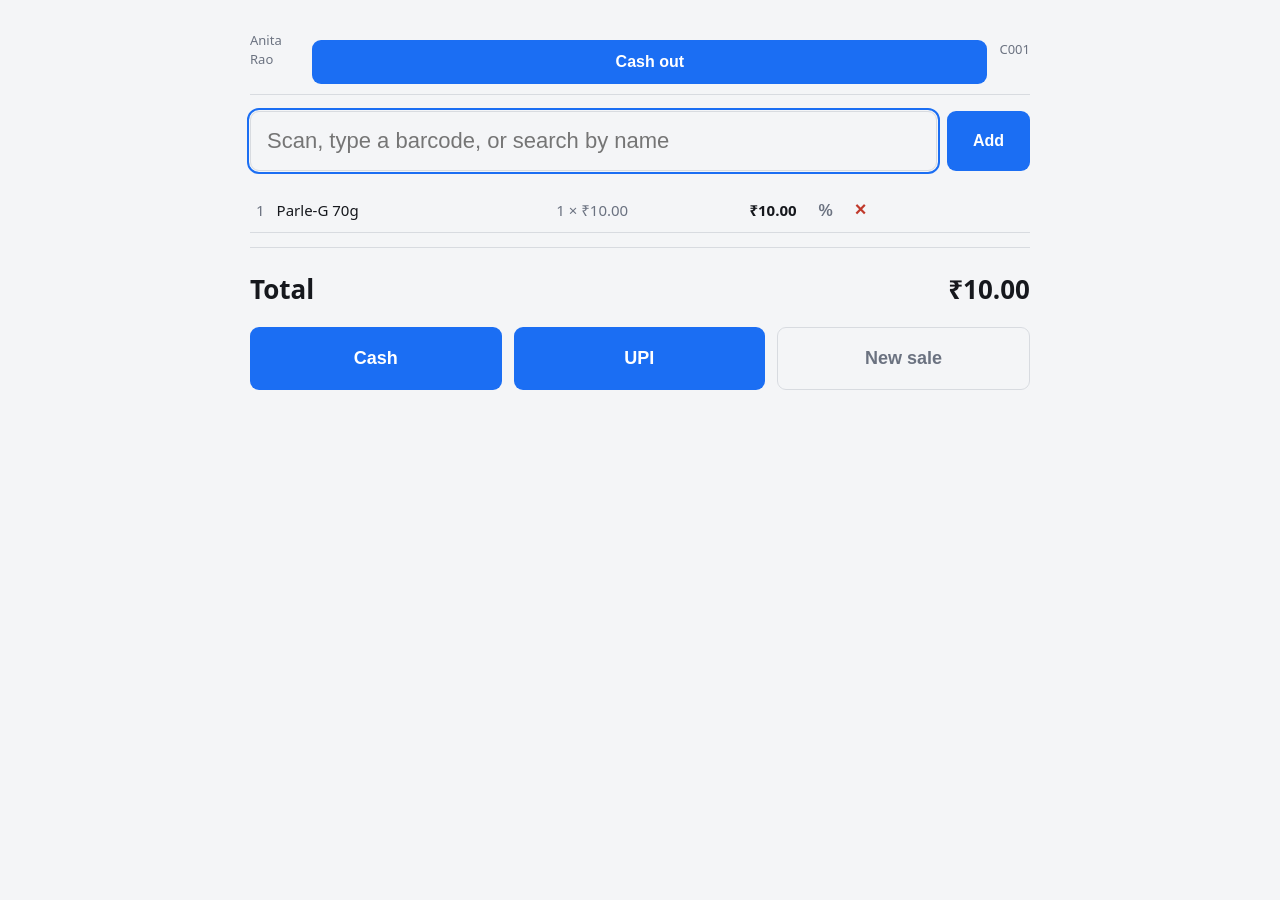
Test: asking for an override › opens the supervisor dialog when the act is refused
Expected: the field with placeholder "Scan, type a barcode, or search by name" is shown, x1=250 y1=111 x2=937 y2=171
Click the button named "discount line 1" at (826,211), box x1=809 y1=201 x2=843 y2=221
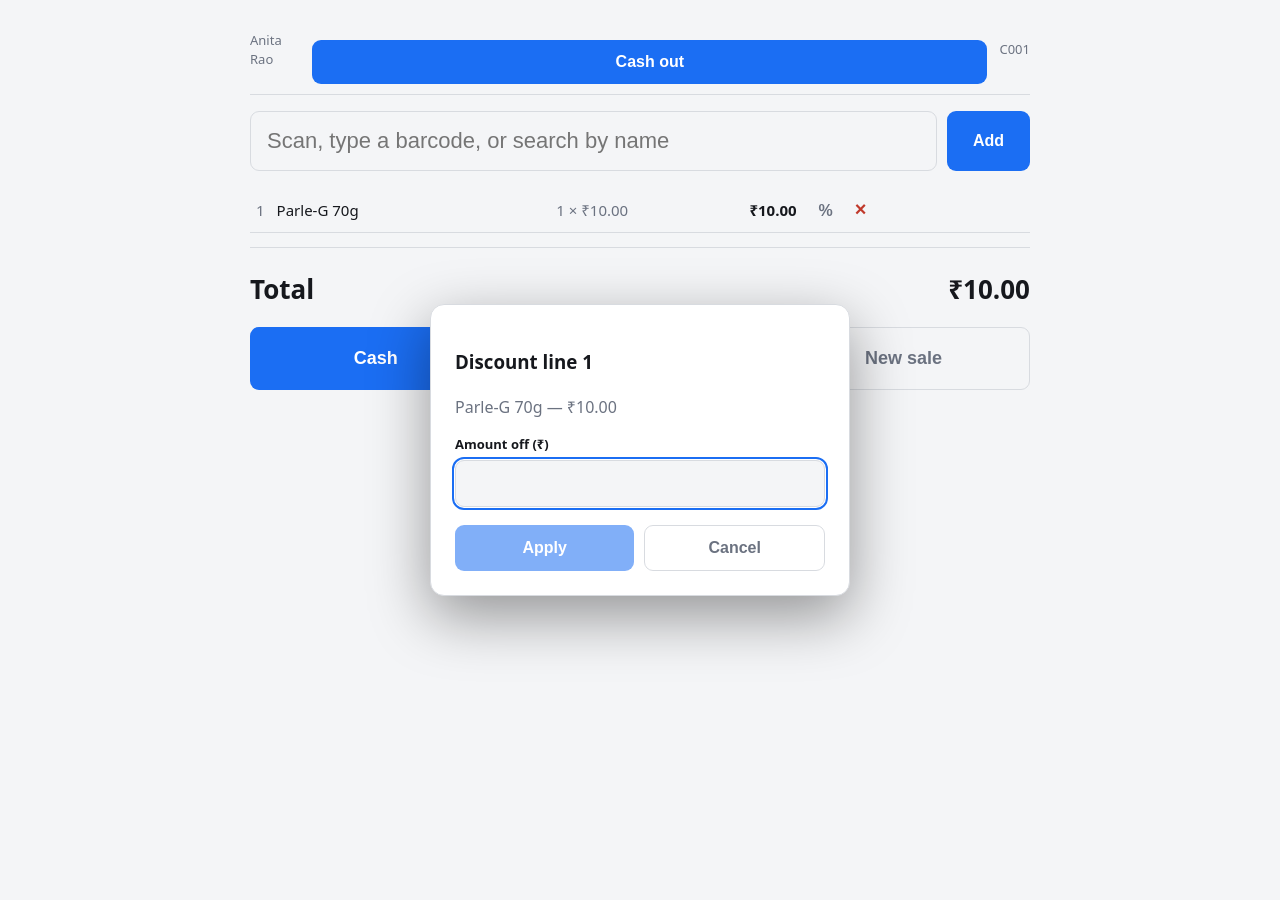
Type "2" into the field labelled "Amount off (₹)" at (640,484), box x1=455 y1=460 x2=825 y2=507
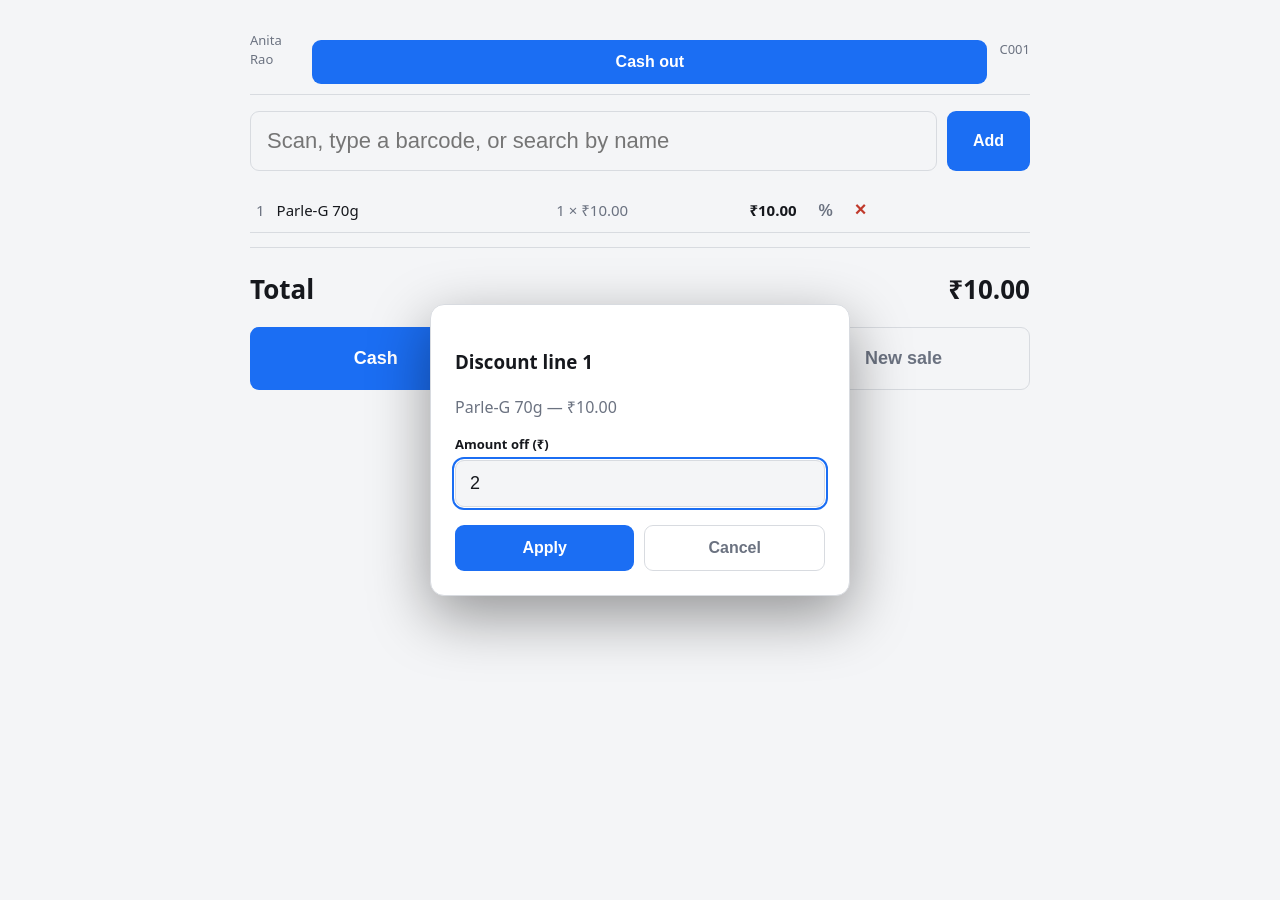
Click the button "Apply" at (545,548), box x1=455 y1=525 x2=634 y2=571
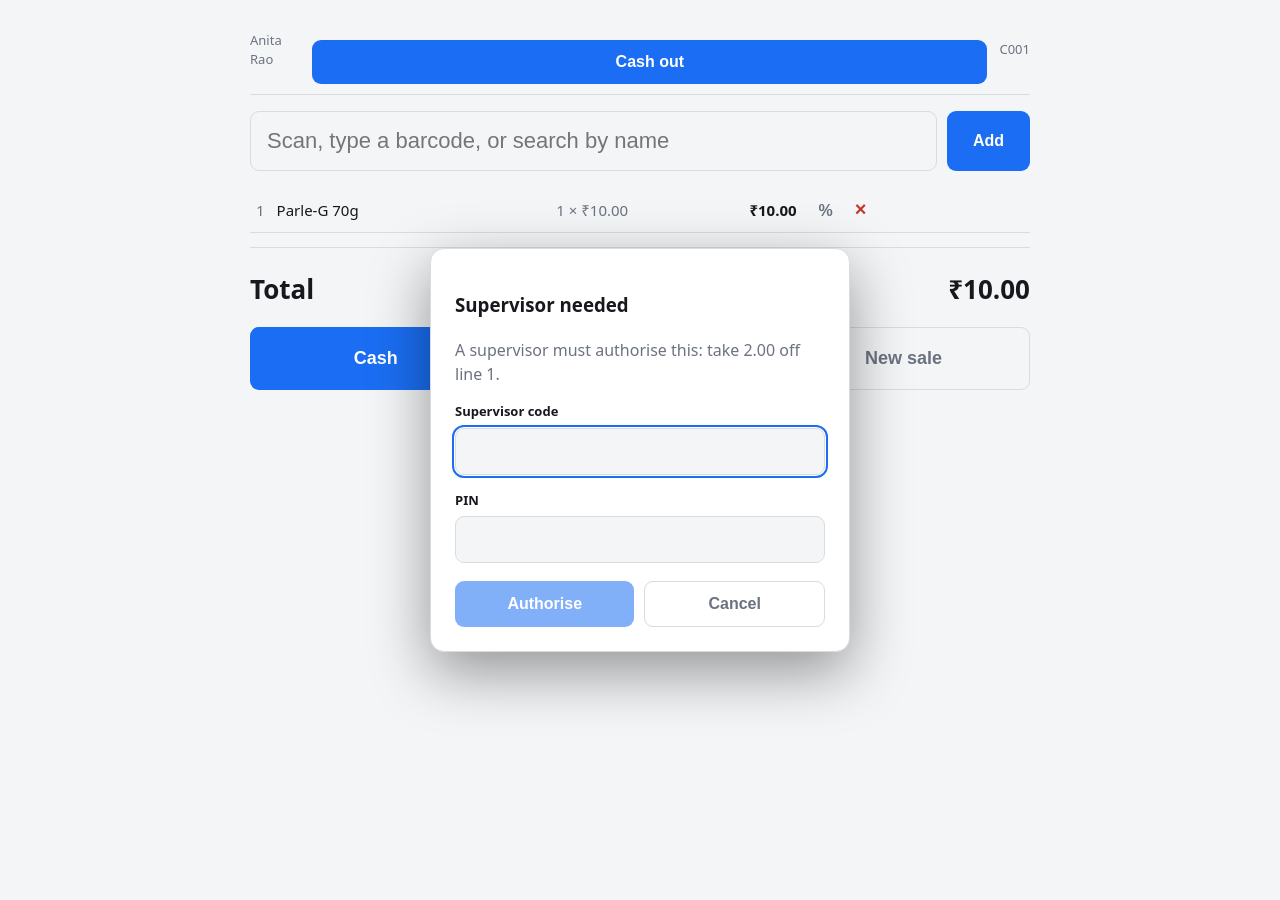
Expected: the dialog "Supervisor" is shown, x1=430 y1=248 x2=850 y2=652
Expected: the text "A supervisor must authorise this: take 2.00 off line 1." is shown, x1=455 y1=338 x2=825 y2=386
